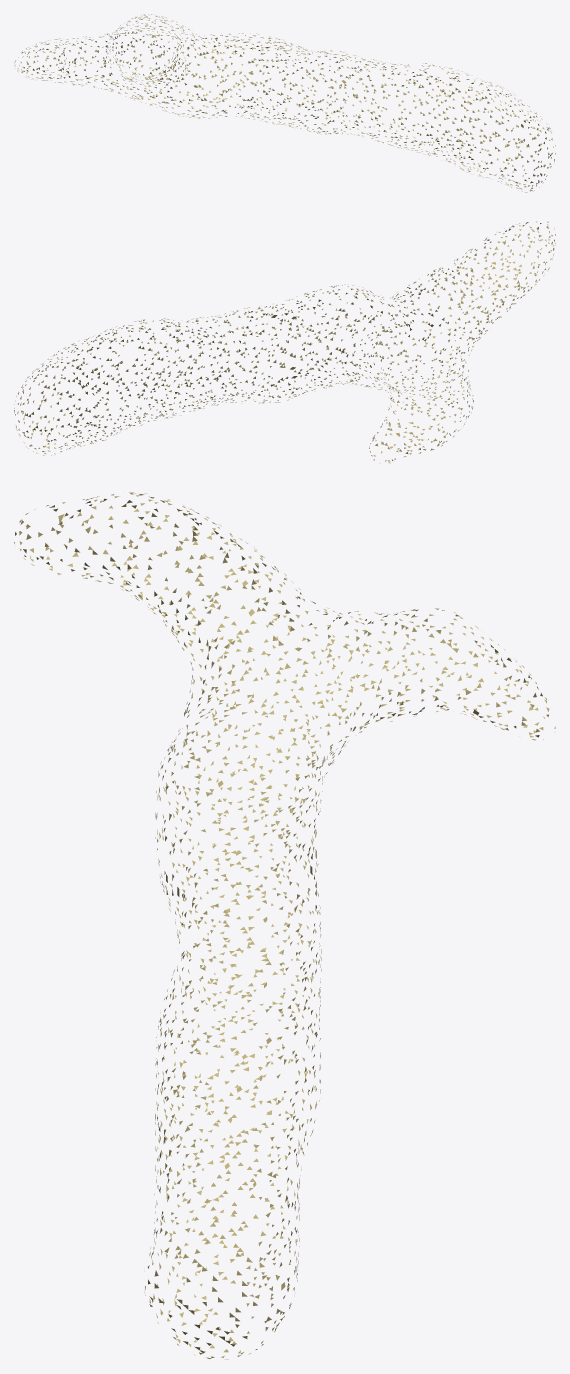
The model's file is morph_008.glb.
The picture shows the model from 3 angles, top to bottom: view 1: azimuth 30°, elevation 25°; view 2: azimuth 150°, elevation 25°; view 3: azimuth 270°, elevation 25°; orthographic projection. The views are drawn at different scales.
Bounding box in the file's own units: 120 × 69.52 × 67.07.
